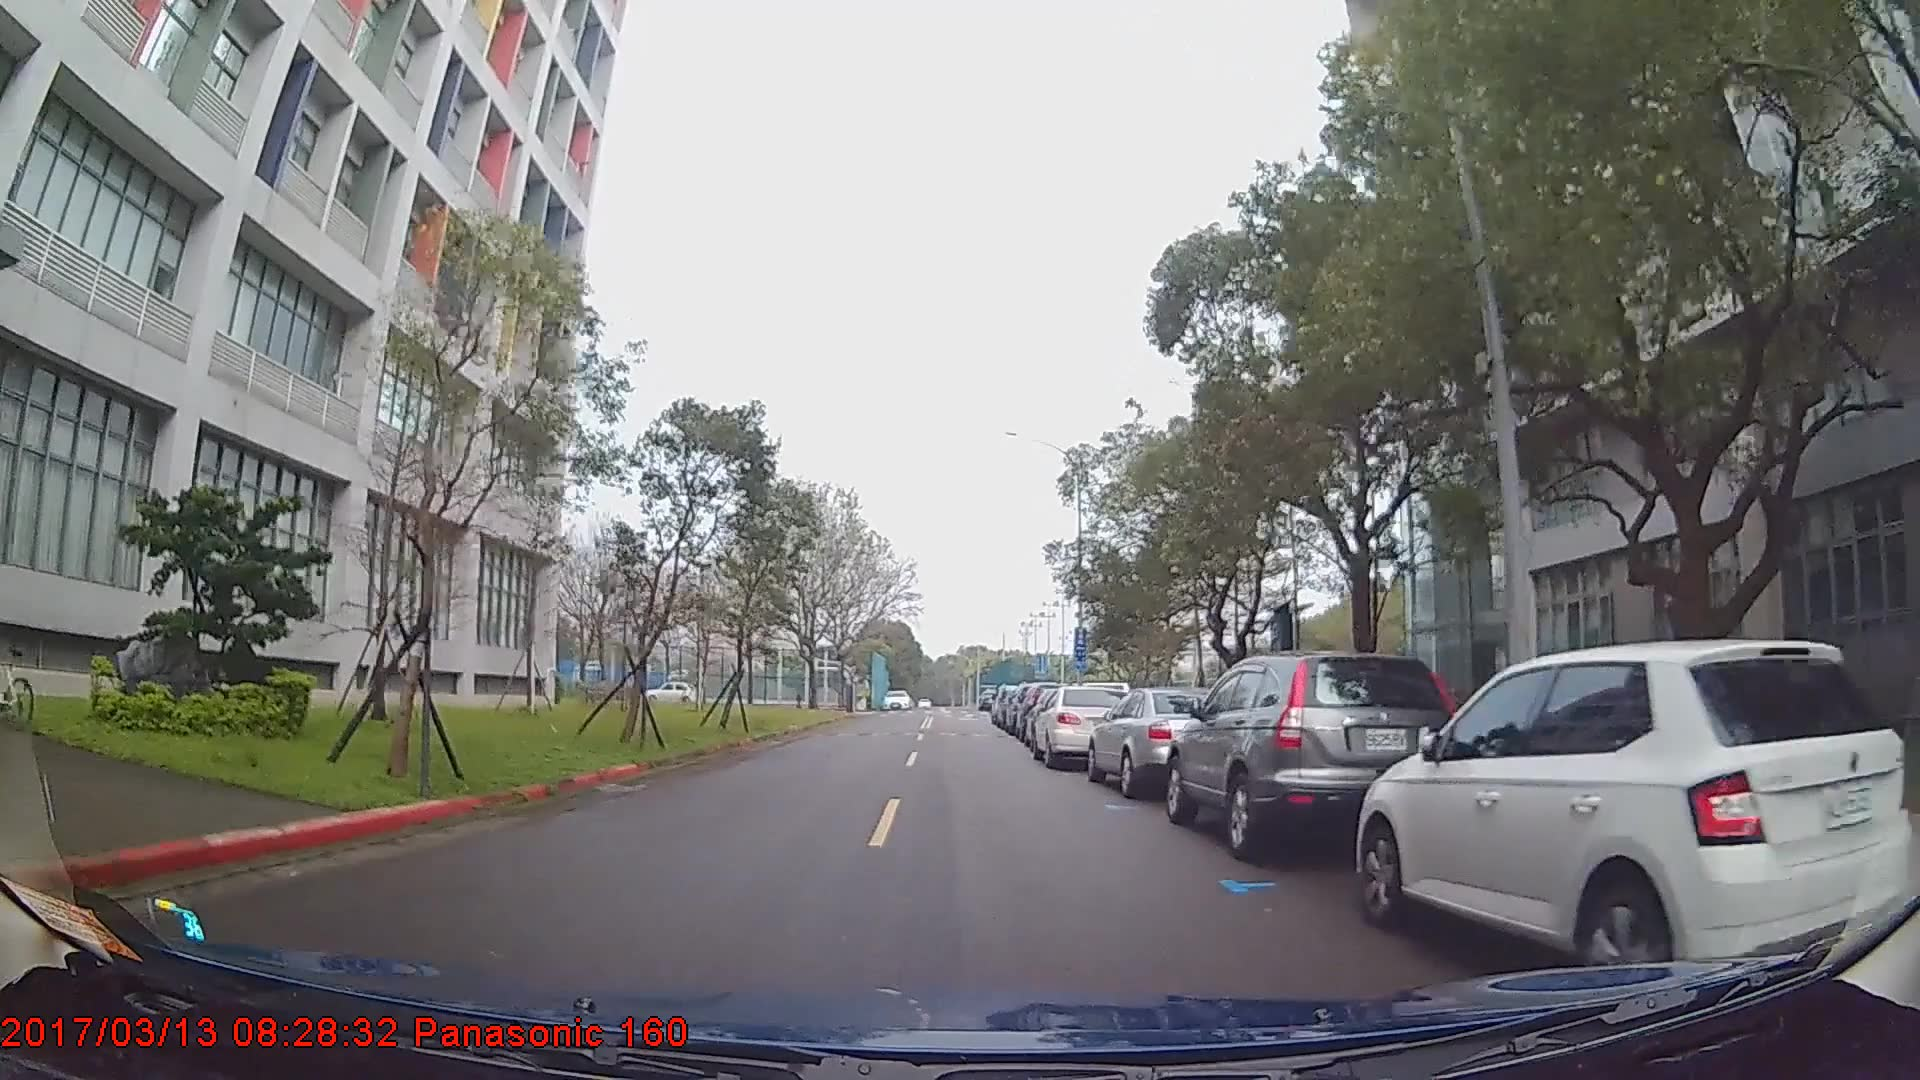vehicle: (1356, 636, 1913, 992), (1166, 649, 1469, 862), (1085, 684, 1222, 796), (1030, 680, 1139, 767), (645, 678, 698, 705)
